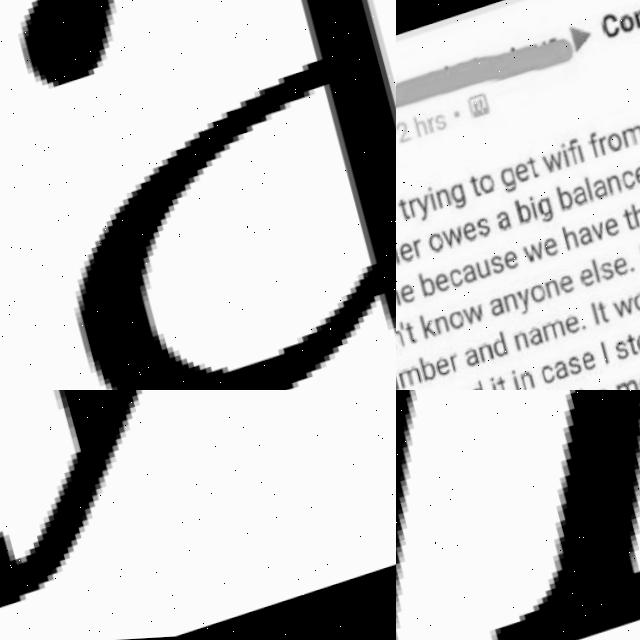2: (396, 119, 411, 144)
A: (0, 0, 396, 390)
N: (396, 390, 640, 640)
Y: (0, 390, 396, 639)
